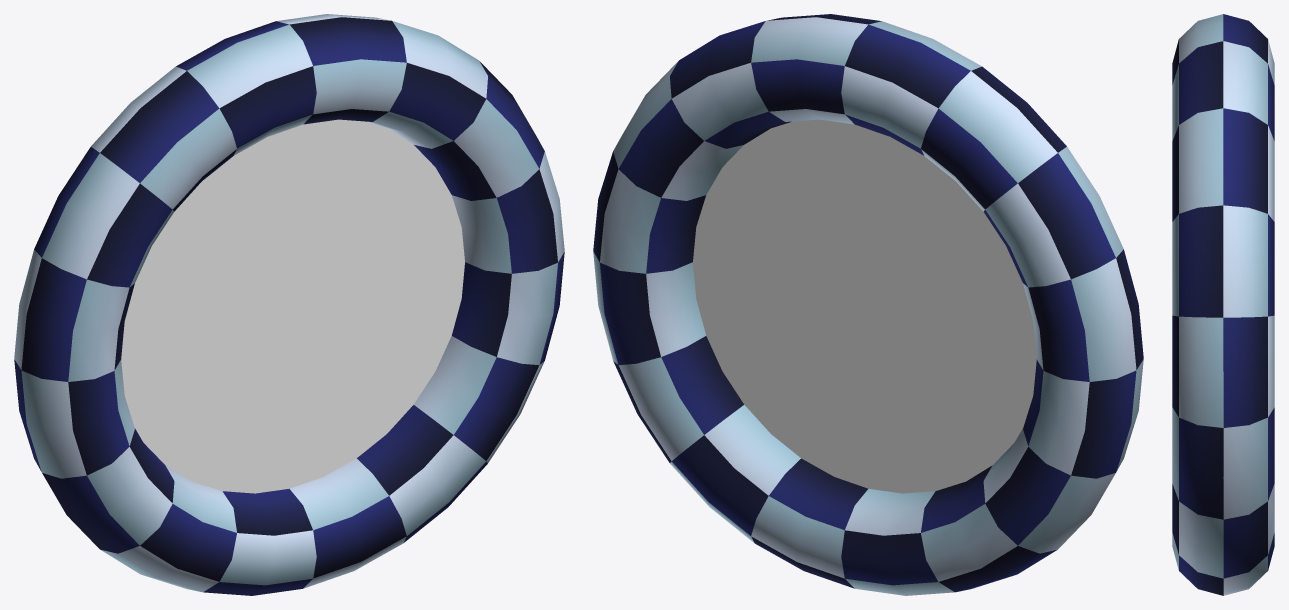
Rendered from Fbx_GoalRing.fbx.
The picture shows the model from 3 angles, left to right: view 1: azimuth 30°, elevation 25°; view 2: azimuth 150°, elevation 25°; view 3: azimuth 270°, elevation 25°; orthographic projection. The views are drawn at different scales.
Parts seen in each view (by area): view 1: Goal Ring; view 2: Goal Ring; view 3: Goal Ring.
Part boxes in pixels (box(x1,y1,x2,y2)): Goal Ring: box(14, 14, 564, 595); Goal Ring: box(593, 14, 1143, 595); Goal Ring: box(1172, 14, 1274, 595).
Bounding box in the file's own units: 9.42 × 9.42 × 1.66.
